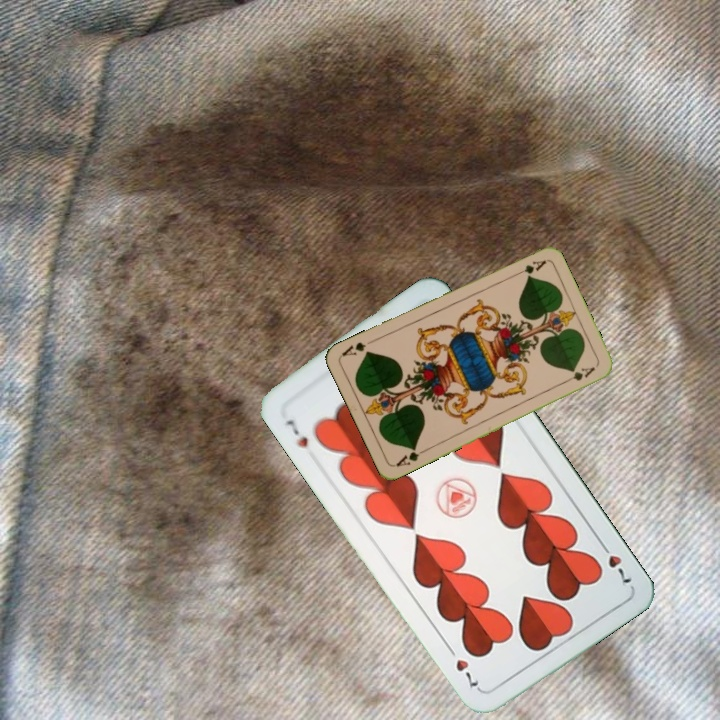GA: (392, 443, 429, 470), (509, 256, 549, 279)
H7: (595, 537, 635, 589), (282, 415, 311, 450)
